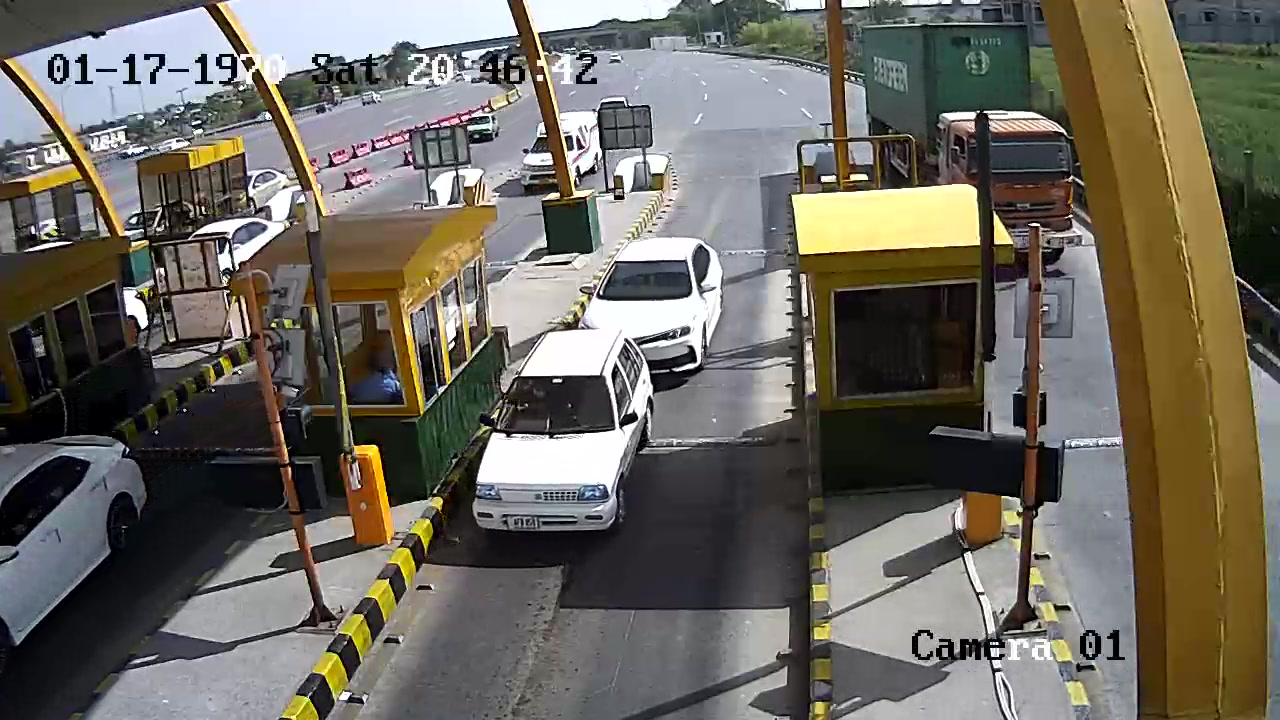F1: (470, 324, 660, 539)
